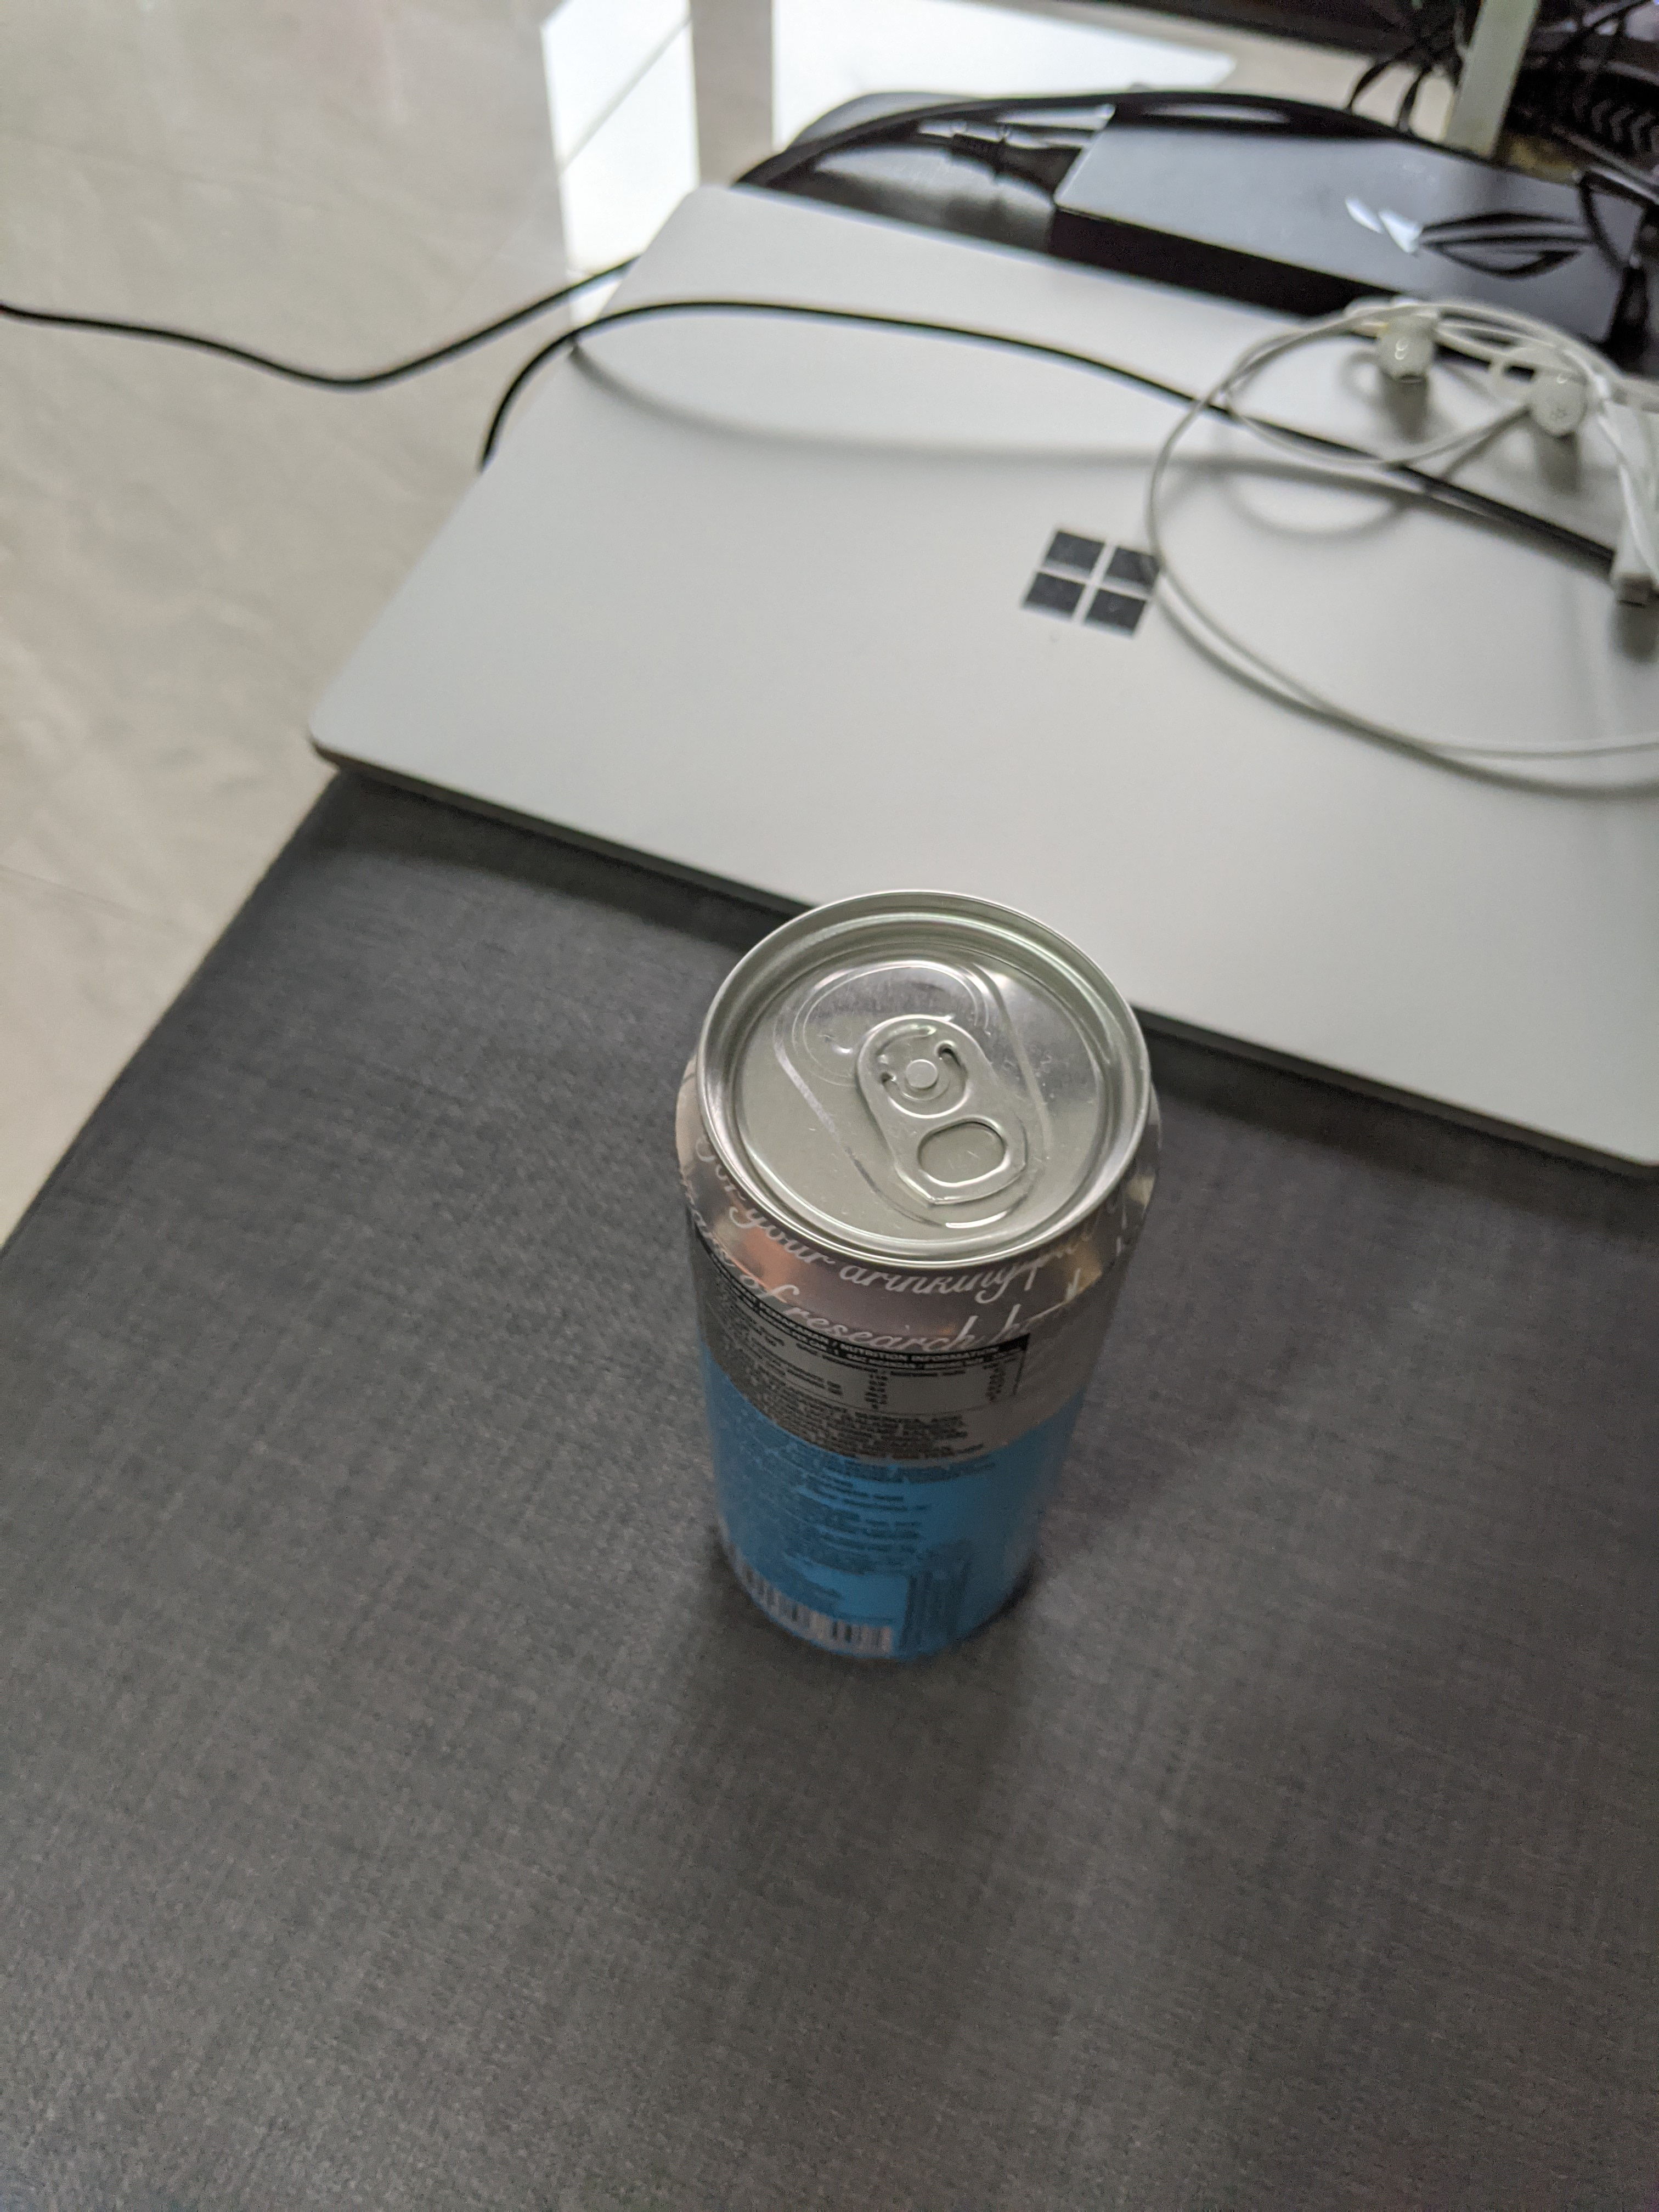schweppes drink can bitter lemon: (634, 855, 1201, 1721)
